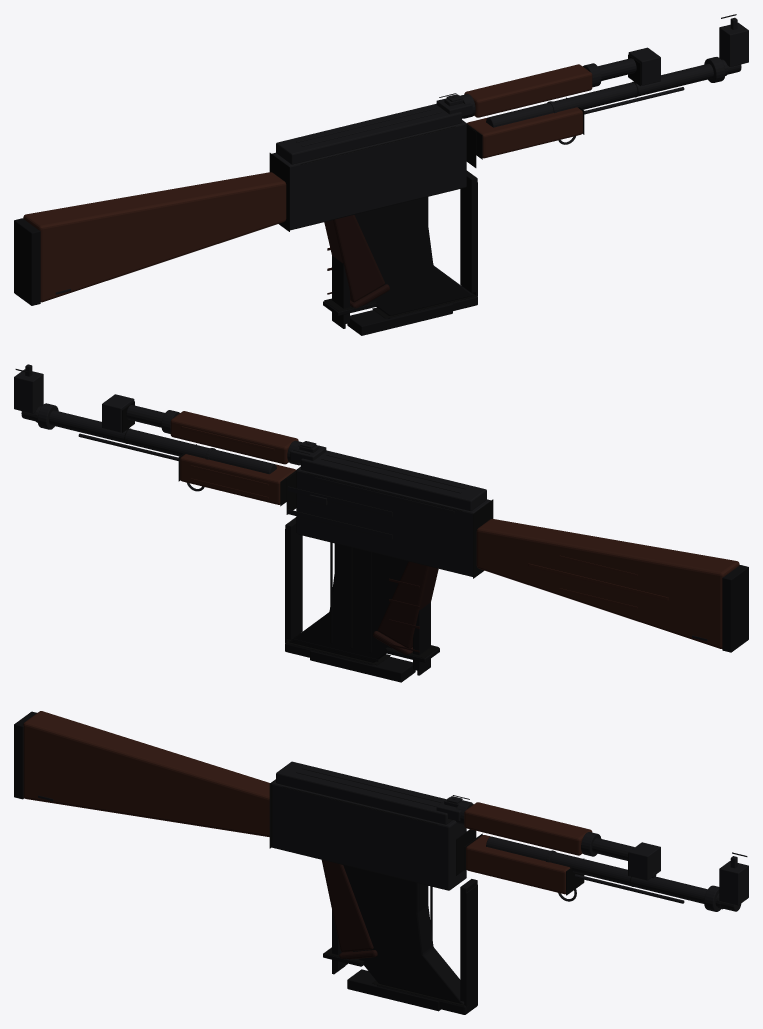
The model's file is AK47_exterior_prop_visual.obj.
The picture shows the model from 3 angles, top to bottom: view 1: azimuth 30°, elevation 25°; view 2: azimuth 150°, elevation 25°; view 3: azimuth 330°, elevation 25°; orthographic projection.
Parts seen in each view (by area): view 1: AK_stock_main, AK_receiver_main, AK_magazine_main, AK_dustcover_main, AK_handguard_upper_main, AK_barrel_outer_closed, AK_handguard_lower_main, AK_grip_main, AK_stock_buttplate_visual, AK_magazine_front_spine_visual, AK_magazine_baseplate_visual, AK_front_sight_block_visual (+4 smaller); view 2: AK_stock_main, AK_receiver_main, AK_magazine_main, AK_dustcover_main, AK_handguard_upper_main, AK_barrel_outer_closed, AK_grip_main, AK_handguard_lower_main, AK_stock_buttplate_visual, AK_magazine_front_spine_visual, AK_magazine_baseplate_visual, AK_front_sight_block_visual (+7 smaller); view 3: AK_stock_main, AK_receiver_main, AK_magazine_main, AK_dustcover_main, AK_handguard_upper_main, AK_barrel_outer_closed, AK_handguard_lower_main, AK_grip_main, AK_ridge_magazine_front_001, AK_magazine_baseplate_visual, AK_front_sight_block_visual, AK_gas_block_visual (+3 smaller).
Boxes of the visible parts, box(x1,y1,x2,y2) form: AK_stock_main: box(23, 172, 286, 302); AK_receiver_main: box(272, 120, 466, 230); AK_magazine_main: box(354, 197, 477, 318); AK_dustcover_main: box(276, 103, 461, 164); AK_handguard_upper_main: box(464, 64, 592, 117); AK_barrel_outer_closed: box(486, 63, 741, 127); AK_handguard_lower_main: box(466, 107, 582, 158); AK_grip_main: box(324, 215, 389, 308); AK_stock_buttplate_visual: box(14, 218, 40, 305); AK_magazine_front_spine_visual: box(460, 170, 477, 292); AK_magazine_baseplate_visual: box(347, 304, 452, 335); AK_front_sight_block_visual: box(719, 17, 748, 66); AK_stock_main: box(476, 519, 739, 648); AK_receiver_main: box(296, 466, 490, 576); AK_magazine_main: box(285, 543, 408, 665); AK_dustcover_main: box(301, 450, 486, 510); AK_handguard_upper_main: box(170, 411, 298, 464); AK_barrel_outer_closed: box(21, 410, 276, 474); AK_grip_main: box(373, 561, 438, 654); AK_handguard_lower_main: box(180, 454, 295, 504); AK_stock_buttplate_visual: box(722, 565, 748, 652); AK_magazine_front_spine_visual: box(285, 517, 302, 639); AK_magazine_baseplate_visual: box(310, 650, 415, 682); AK_front_sight_block_visual: box(14, 364, 43, 413); AK_stock_main: box(23, 711, 269, 836); AK_receiver_main: box(271, 780, 466, 890); AK_magazine_main: box(343, 865, 477, 1014); AK_dustcover_main: box(276, 761, 452, 824); AK_handguard_upper_main: box(464, 802, 592, 855); AK_barrel_outer_closed: box(486, 836, 741, 911); AK_handguard_lower_main: box(466, 835, 569, 894); AK_grip_main: box(321, 860, 377, 959); AK_ridge_magazine_front_001: box(464, 884, 477, 1006); AK_magazine_baseplate_visual: box(347, 969, 440, 1011); AK_front_sight_block_visual: box(719, 856, 748, 905); AK_gas_block_visual: box(628, 842, 660, 880).
Bounding box in the file's own units: 0.9285 × 0.27 × 0.045.
